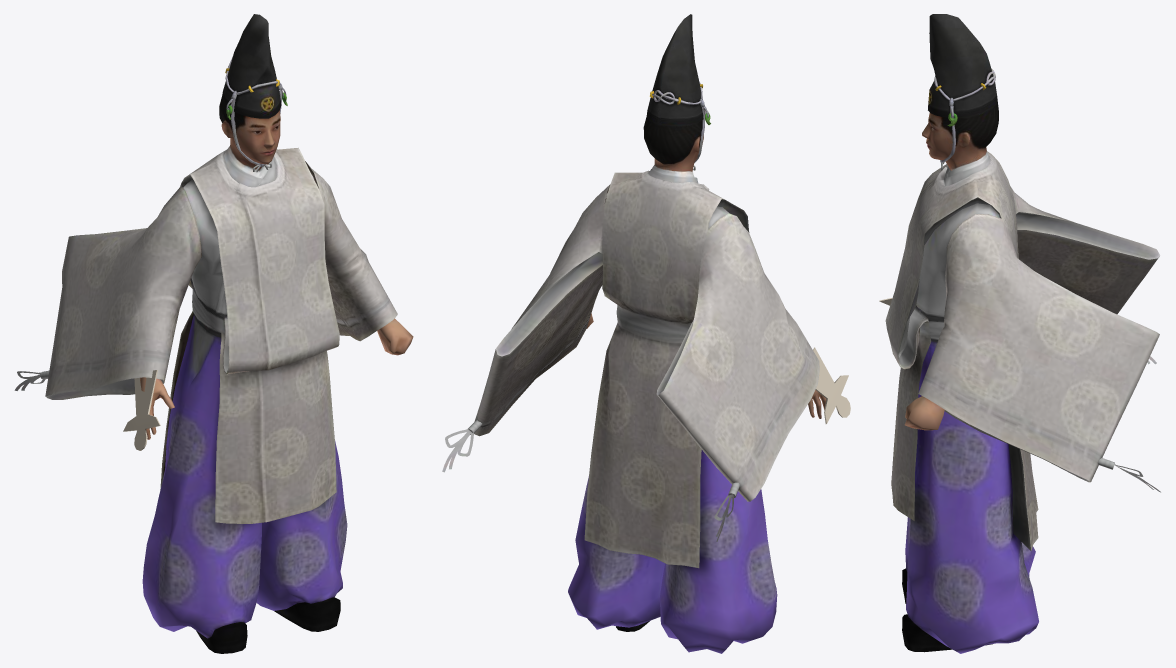
The model's file is 146-onmyoji.glb.
The picture shows the model from 3 angles, left to right: view 1: azimuth 30°, elevation 25°; view 2: azimuth 150°, elevation 25°; view 3: azimuth 270°, elevation 25°; orthographic projection.
Bounding box in the file's own units: 1.19 × 2.4 × 1.01.
2 materials, 1 textured.
